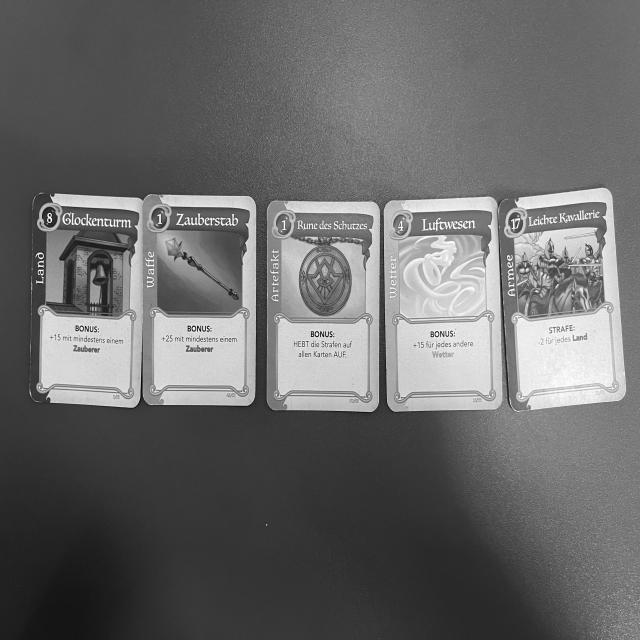Air Elemental: (383, 195, 503, 420)
Clock Tower: (30, 195, 143, 407)
Dwarvish Infantry: (500, 189, 623, 412)
Magic Wand: (142, 194, 256, 411)
Rune Of Protection: (265, 200, 382, 417)
